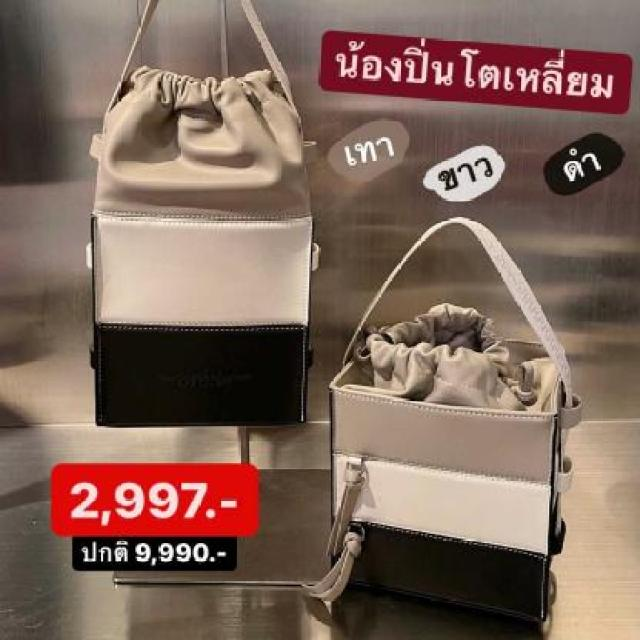Bag: (292, 197, 572, 640), (66, 0, 333, 452)
